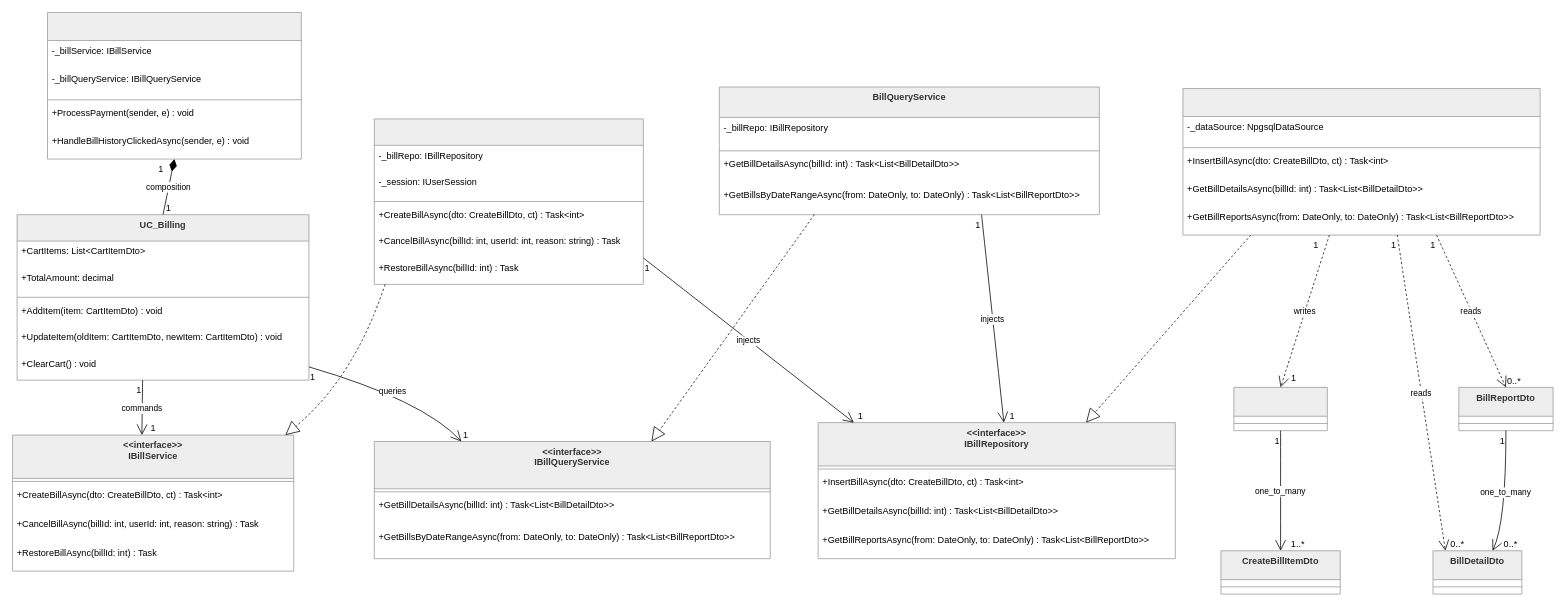
This 1566x606 diagram has some shape labels left out. Here are the shapes that lost their labels. From the top down, the box of each, then its label:
(47, 12, 301, 159): CashierWorkspaceForm
(1182, 88, 1540, 235): BillRepository
(374, 118, 643, 284): BillService
(1233, 387, 1327, 431): CreateBillDto
